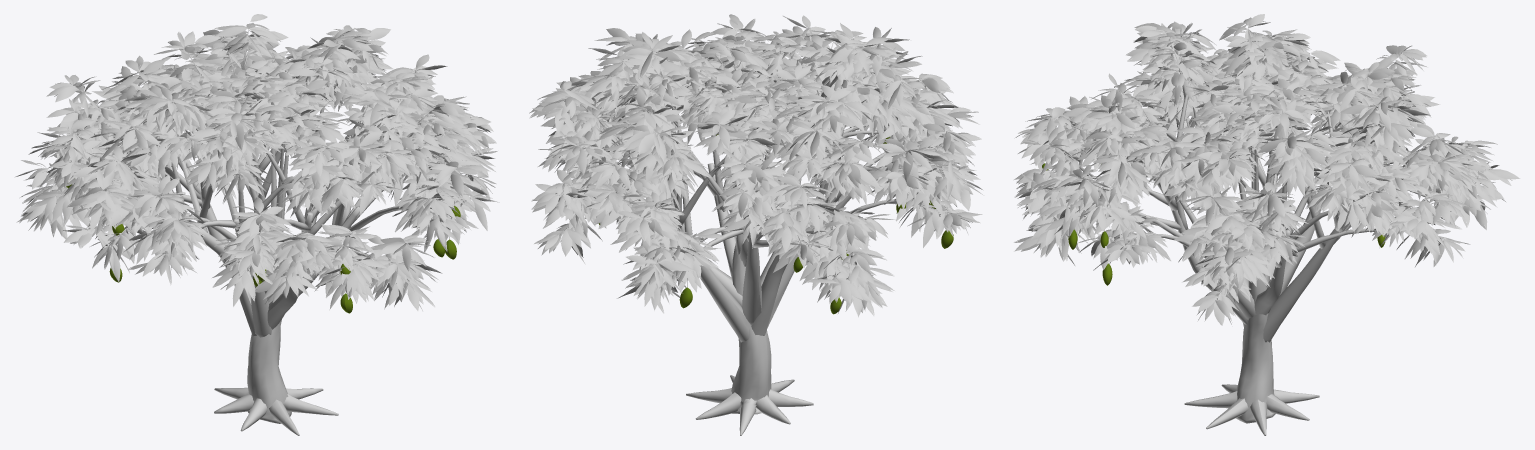
Rendered from MangoTree_LOD0.fbx.
3 views of the same model, side by side, from view 1: azimuth 30°, elevation 25°; view 2: azimuth 150°, elevation 25°; view 3: azimuth 270°, elevation 25° (orthographic). The views are drawn at different scales.
Visible parts, largest first — view 1: Leaves_LOD0, Bark_LOD0, Fruit_LOD0; view 2: Leaves_LOD0, Bark_LOD0, Fruit_LOD0; view 3: Leaves_LOD0, Bark_LOD0, Fruit_LOD0.
Part boxes in pixels (bbox=[...]): Leaves_LOD0: bbox=[15, 14, 499, 310]; Bark_LOD0: bbox=[51, 29, 469, 435]; Fruit_LOD0: bbox=[66, 184, 460, 313]; Leaves_LOD0: bbox=[529, 14, 983, 317]; Bark_LOD0: bbox=[562, 41, 947, 435]; Fruit_LOD0: bbox=[598, 134, 953, 314]; Leaves_LOD0: bbox=[1014, 14, 1520, 325]; Bark_LOD0: bbox=[1044, 40, 1479, 435]; Fruit_LOD0: bbox=[1042, 163, 1385, 285].
Size of the model in its own units: 542 by 424 by 553.
